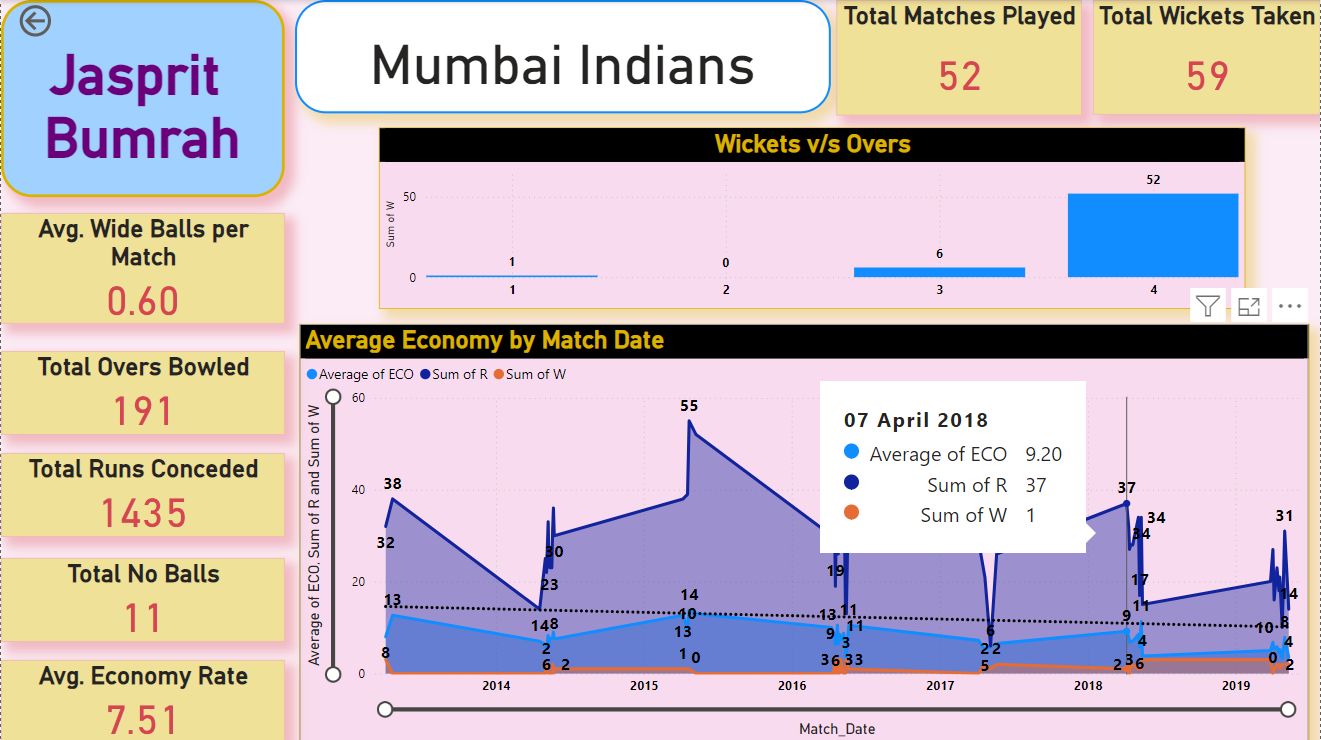

The dashboard page shown, as its layout file describes it:
{"tool":"powerbi","page":{"name":"Bowler Data","canvas":[1280,720],"ordinal":2},"visuals":[{"type":"card","title":"Bowler Name","fields":{"Values":["Min(Bowlers.Bowler)"]},"box":[0,0,275.3,191.1],"z":0},{"type":"card","fields":{"Values":["Min(Bowlers.Team)"]},"box":[285,0,519.8,110.1],"z":1000},{"type":"actionButton","box":[13,0,47,40.5],"z":2000},{"type":"card","title":"Total Matches Played","fields":{"Values":["CountNonNull(Bowlers.Match ID)"]},"box":[811.2,0,238,111.7],"z":3000},{"type":"card","title":"Total Wickets Taken","fields":{"Values":["Sum(Bowlers.W)"]},"box":[1059.2,0,220.8,111.4],"z":4000},{"type":"card","title":"Total Overs Bowled","fields":{"Values":["Sum(Bowlers.O)"]},"box":[0,340.3,275.4,81],"z":5000},{"type":"card","title":"Total Runs Conceded","fields":{"Values":["Sum(Bowlers.R)"]},"box":[0,439.5,275.4,81],"z":6000},{"type":"card","title":"Total No Balls","fields":{"Values":["Sum(Bowlers.NB)"]},"box":[0,540.8,275.4,81],"z":7000},{"type":"card","title":"Avg. Economy Rate","fields":{"Values":["Avg(Bowlers.ECO)"]},"box":[0,640,275.4,81],"z":8000},{"type":"card","title":"Avg. Wide Balls per Match","fields":{"Values":["Avg(Bowlers.WD)"]},"box":[0,206.6,275.4,107.3],"z":9000},{"type":"columnChart","title":"Wickets v/s Overs","fields":{"Category":["Bowlers.O"],"Y":["Sum(Bowlers.W)"]},"box":[366.6,123.5,840.5,176.2],"z":10000},{"type":"lineChart","title":"Average Economy by Match Date","fields":{"Category":["Finaldata.Match_Date.Variation.Date Hierarchy.Year"],"Y":["Avg(Bowlers.ECO)","Sum(Bowlers.R)","Sum(Bowlers.W)"]},"box":[289.6,313.9,980.3,407.1],"z":11000}]}

Visuals, with their boxes in screenshot pixels (x1, y1, x2, y2), scaled from the page's 1280x720 canvas onto the 1321x740 screenshot:
"Bowler Name" card: <region>0, 0, 284, 196</region>
card - Min(Bowlers.Team): <region>294, 0, 831, 113</region>
actionButton: <region>13, 0, 62, 42</region>
"Total Matches Played" card: <region>837, 0, 1083, 115</region>
"Total Wickets Taken" card: <region>1093, 0, 1320, 114</region>
"Total Overs Bowled" card: <region>0, 350, 284, 433</region>
"Total Runs Conceded" card: <region>0, 452, 284, 535</region>
"Total No Balls" card: <region>0, 556, 284, 639</region>
"Avg. Economy Rate" card: <region>0, 658, 284, 739</region>
"Avg. Wide Balls per Match" card: <region>0, 212, 284, 323</region>
"Wickets v/s Overs" columnChart: <region>378, 127, 1246, 308</region>
"Average Economy by Match Date" lineChart: <region>299, 323, 1311, 739</region>
